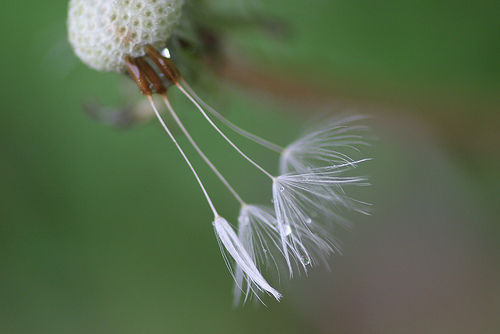dandelion: (59, 1, 403, 325)
